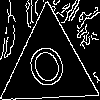O: (23, 40, 75, 100)
